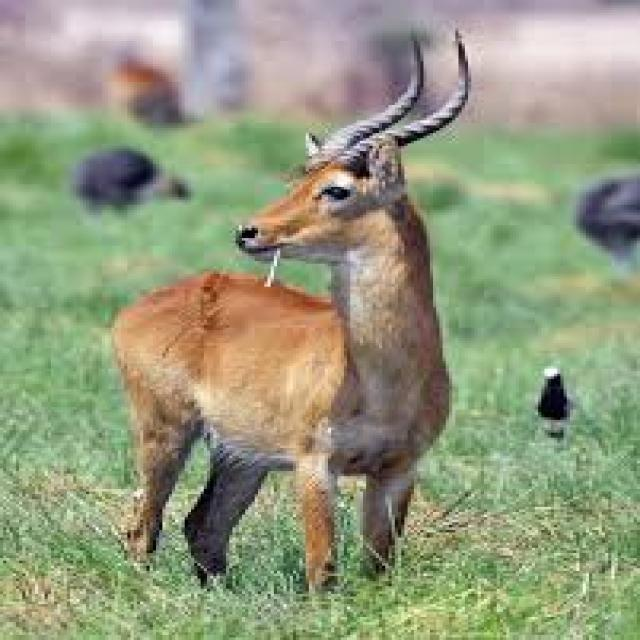Antelope: (101, 30, 472, 589)
